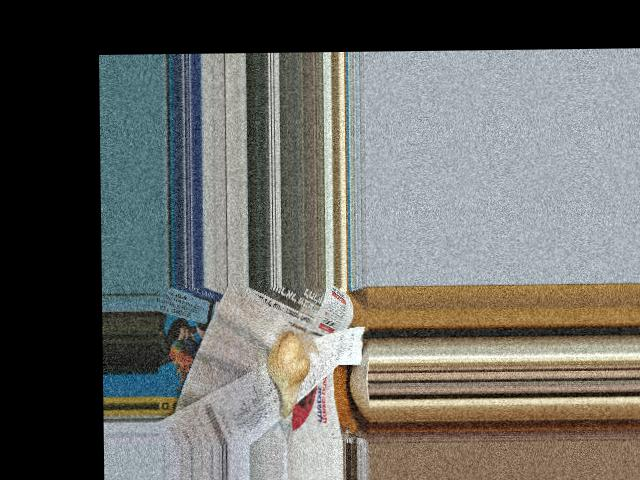onion: (269, 331, 308, 410)
